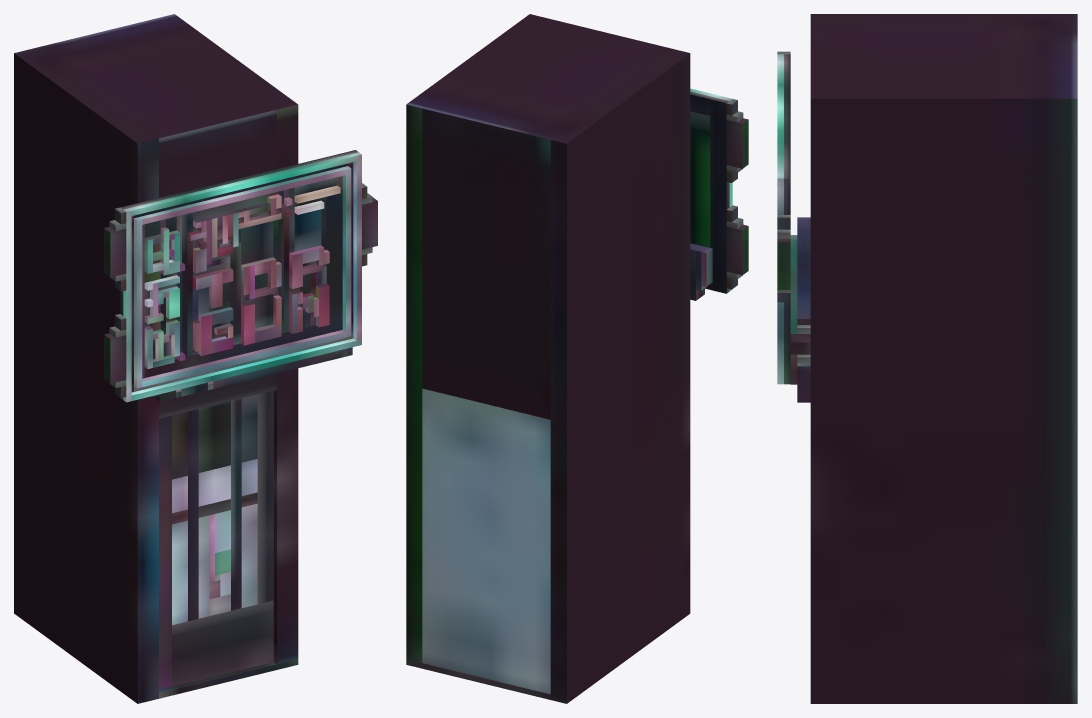
File: Voxel_Cyberpunk_Streets_Free_Sample.glb
3 views of the same model, side by side, from view 1: azimuth 30°, elevation 25°; view 2: azimuth 150°, elevation 25°; view 3: azimuth 270°, elevation 25° (orthographic). The views are drawn at different scales.
Visible parts, largest first — view 1: BuildingModule_F_00, Billboard_TopGun_00, Door_D_00, BillboardModule_NeonFrame_B_00, Door_Glass_H_00, Electronics_Plate_Small_C_00, Electronics_Stick_A_00_2, Electronics_Stick_A_00_1, Electronics_Stick_A_00; view 2: BuildingModule_F_00, BuildingModule_Interior_I_00, BillboardModule_NeonFrame_B_00, Billboard_TopGun_00, Electronics_Stick_A_00_1, Electronics_Stick_A_00_2, Electronics_Plate_Small_C_00; view 3: BuildingModule_F_00, Electronics_Plate_Small_C_00, BillboardModule_NeonFrame_B_00, Electronics_Stick_A_00.
Boxes of the visible parts, x1,y1,x2,y2 form: BuildingModule_F_00: (14,14,298,703); Billboard_TopGun_00: (142,176,342,378); Door_D_00: (159,390,273,689); BillboardModule_NeonFrame_B_00: (120,150,361,402); Door_Glass_H_00: (172,459,257,625); Electronics_Plate_Small_C_00: (152,347,352,401); Electronics_Stick_A_00_2: (104,314,126,397); Electronics_Stick_A_00_1: (104,207,126,291); Electronics_Stick_A_00: (362,183,377,266); BuildingModule_F_00: (406,14,690,703); BuildingModule_Interior_I_00: (422,388,550,694); BillboardModule_NeonFrame_B_00: (690,88,732,293); Billboard_TopGun_00: (690,111,710,247); Electronics_Stick_A_00_1: (726,99,748,182); Electronics_Stick_A_00_2: (726,205,748,289); Electronics_Plate_Small_C_00: (690,243,712,300); BuildingModule_F_00: (810,14,1077,703); Electronics_Plate_Small_C_00: (790,217,810,402); BillboardModule_NeonFrame_B_00: (777,54,790,384); Electronics_Stick_A_00: (777,215,790,302).
Size of the model in its own units: 2.5 by 5 by 2.25.
2 materials, 2 textured.
